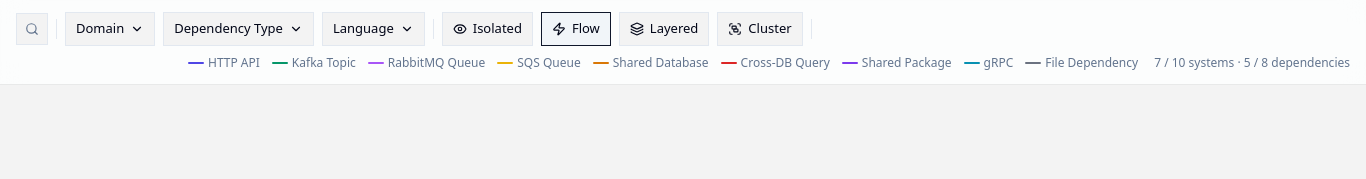
Test: GraphToolbar › opens domain dropdown when clicking the Domain button
What coordinates should you click on to do the following:
click the button "Domain"
I would click on:
 (110, 29)
Its box is [65,12,155,46].
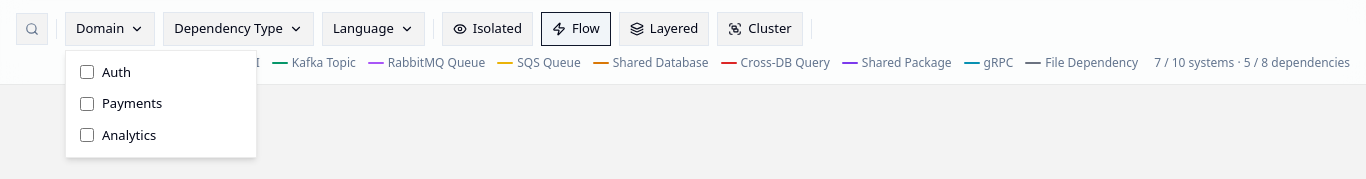
Check: the text "Auth" is shown, box [80,62,131,80]
Check: the text "Payments" is shown, box [80,94,162,112]
Check: the text "Analytics" is shown, box [80,126,156,144]
